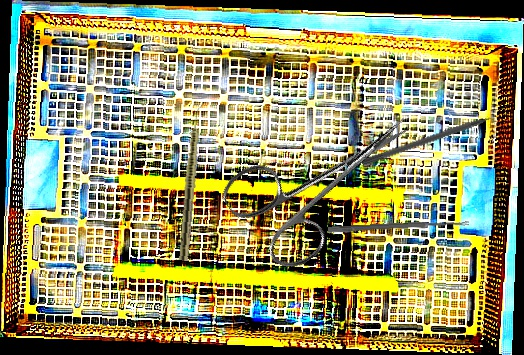Handpiece: (178, 102, 204, 262)
Iris Scissors: (215, 75, 439, 281)
Pusher: (360, 109, 510, 168)
Surgical Spoon: (327, 219, 470, 234)
